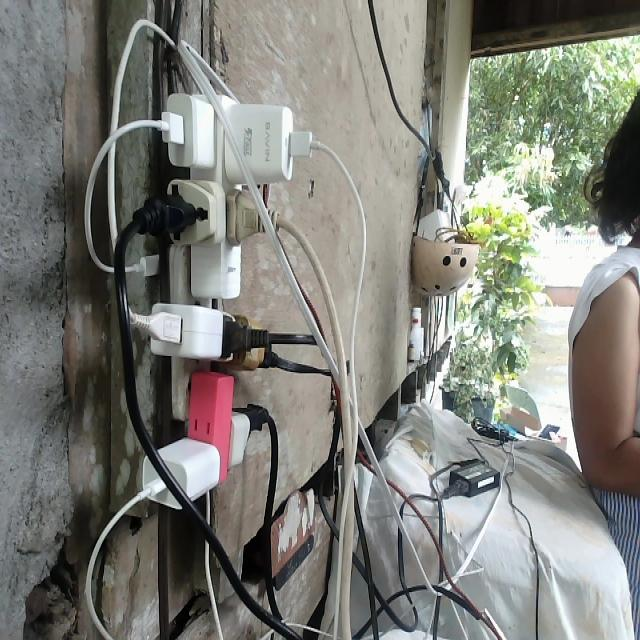-: (121, 87, 312, 510)
